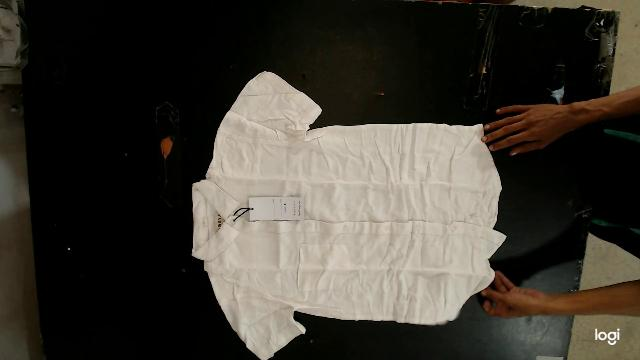new-garment: (192, 72, 505, 358)
